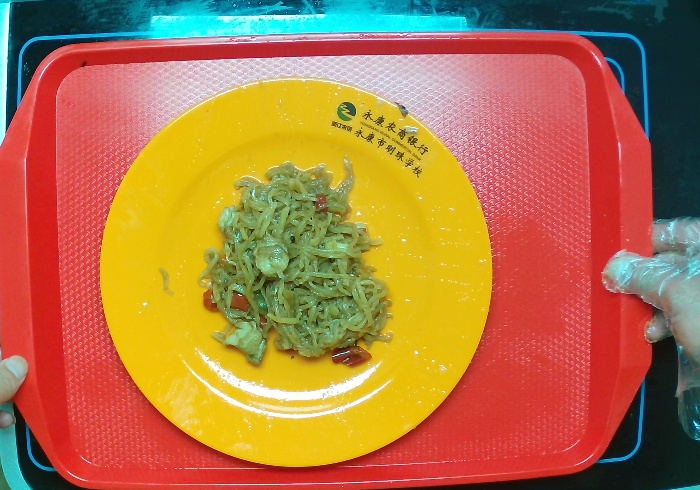YKMZ-Ju_Se_Mian_Pan: (91, 71, 504, 484)
